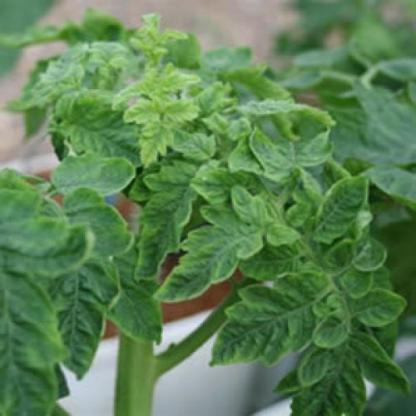tomato leaf mosaic virus: (154, 208, 280, 308), (204, 272, 328, 369), (45, 88, 153, 167), (134, 157, 198, 278), (51, 267, 107, 381), (310, 171, 370, 246), (52, 153, 136, 202), (183, 162, 258, 204), (245, 126, 299, 183), (349, 287, 401, 331)
